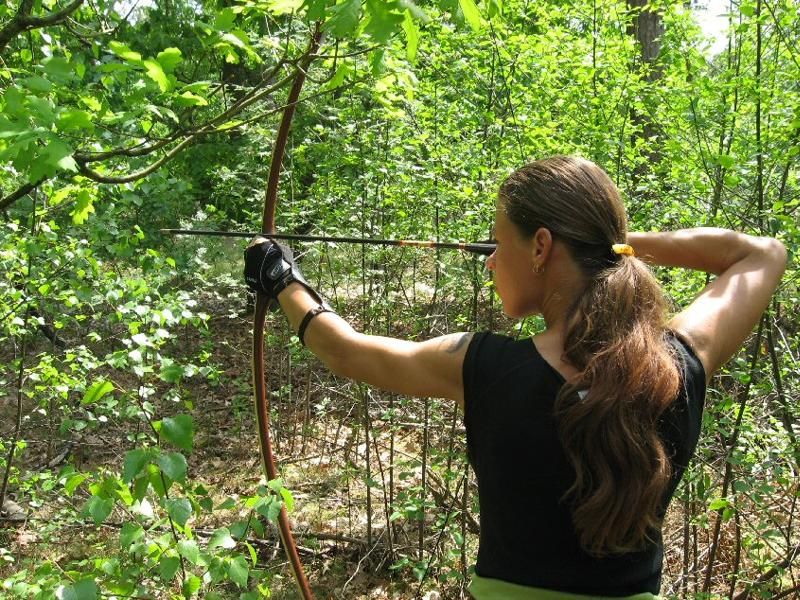person: (244, 147, 788, 598)
